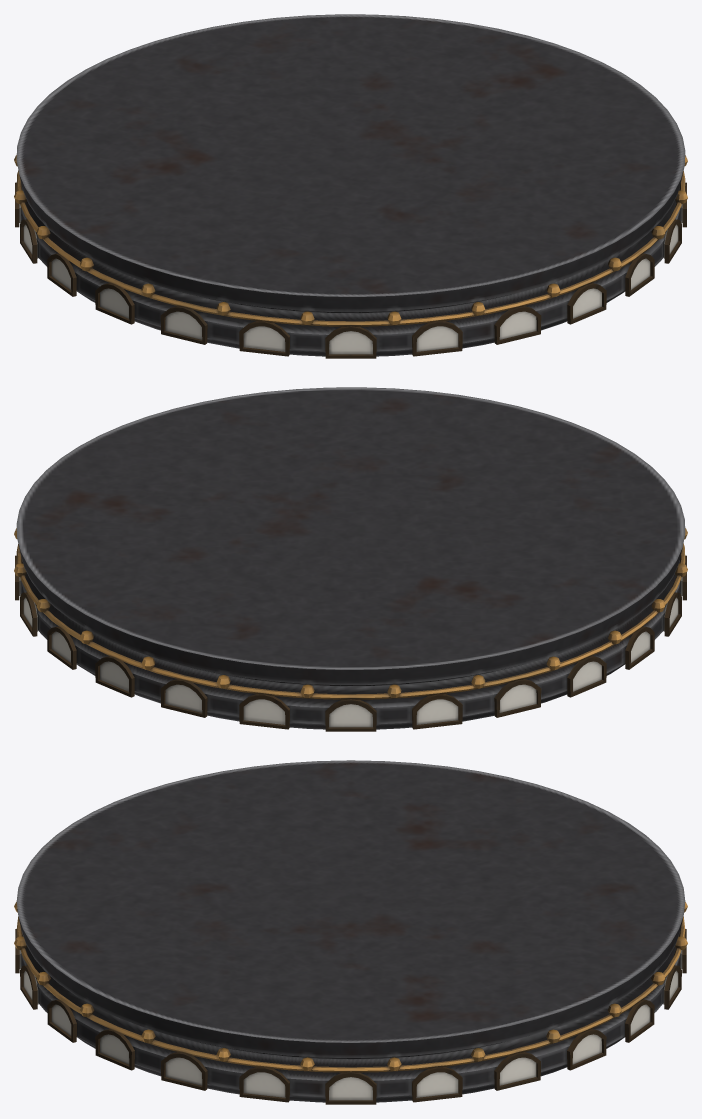
File: TraceryCeilingRose.fbx
3 views of the same model, one above another, from view 1: azimuth 30°, elevation 25°; view 2: azimuth 150°, elevation 25°; view 3: azimuth 270°, elevation 25° (orthographic).
Parts seen in each view (by area): view 1: TraceryCeilingRose_Main, TraceryCeilingRose_Glow; view 2: TraceryCeilingRose_Main, TraceryCeilingRose_Glow; view 3: TraceryCeilingRose_Main, TraceryCeilingRose_Glow.
Part boxes in pixels (x1=…): TraceryCeilingRose_Main: x1=14, y1=14, x2=687, y2=358; TraceryCeilingRose_Glow: x1=19, y1=204, x2=682, y2=354; TraceryCeilingRose_Main: x1=14, y1=387, x2=687, y2=731; TraceryCeilingRose_Glow: x1=19, y1=577, x2=682, y2=727; TraceryCeilingRose_Main: x1=14, y1=760, x2=687, y2=1104; TraceryCeilingRose_Glow: x1=19, y1=950, x2=682, y2=1100.
Bounding box in the file's own units: 369 × 82 × 369.
